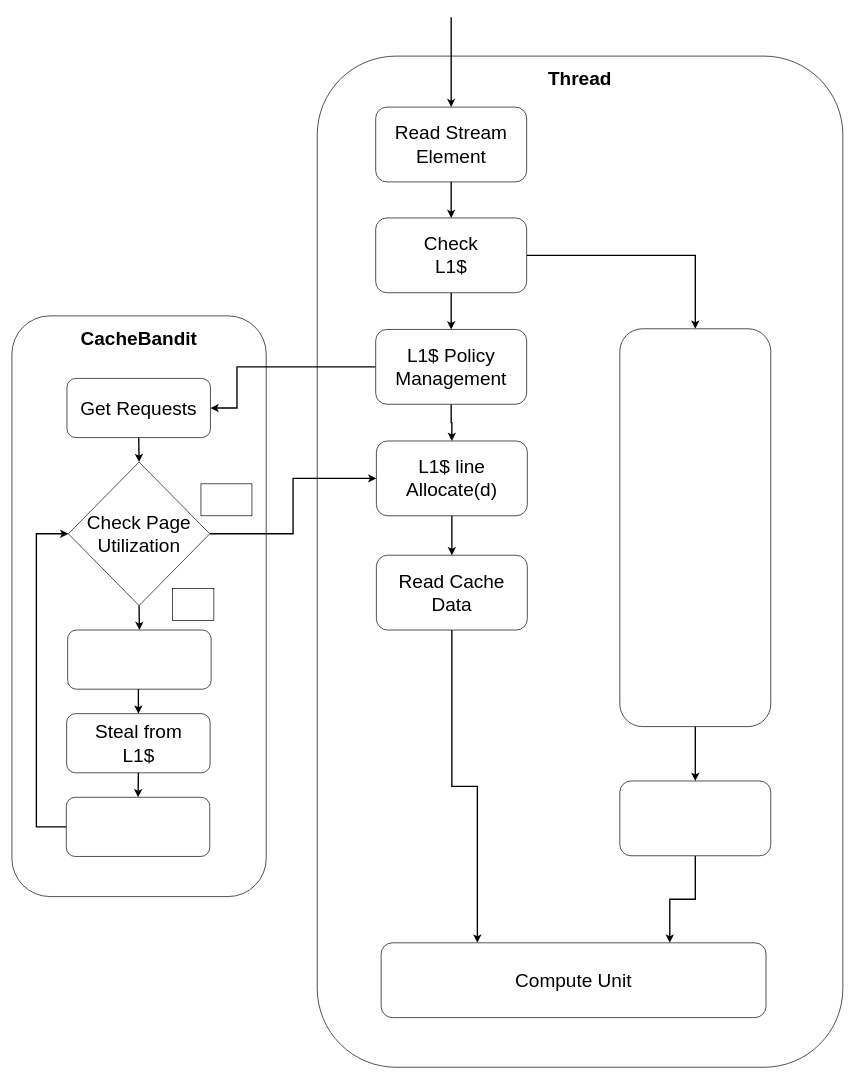
This 855x1079 diagram has some shape labels left out. The centre of each missing label's shape, as x and y in pixels:
Enact Reclaim Policy: the point at 139,659
Insert Into L1$: the point at 695,818
NO: the point at 193,604
Request From Memory: the point at 695,527
Update Page Utilization: the point at 138,826
YES: the point at 226,499
